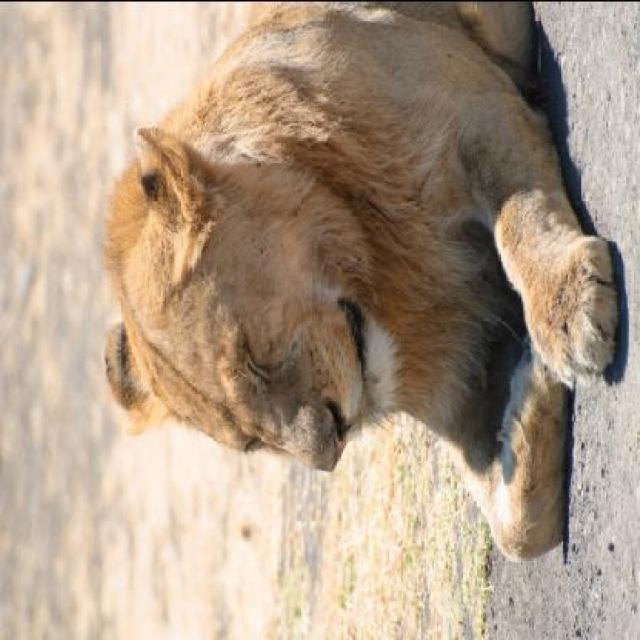Lion: (61, 11, 637, 583)
